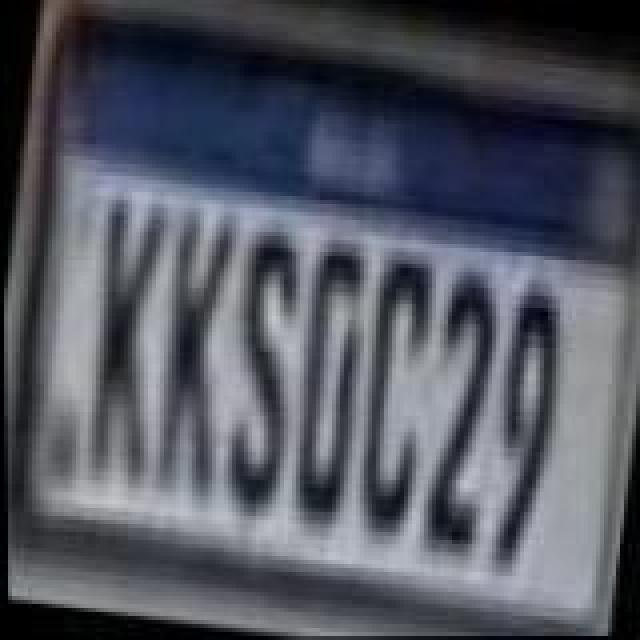2: (408, 274, 508, 550)
9: (476, 290, 572, 574)
C: (342, 254, 446, 538)
D: (278, 240, 382, 524)
K: (140, 208, 252, 504), (70, 196, 178, 492)
S: (208, 228, 312, 516)
